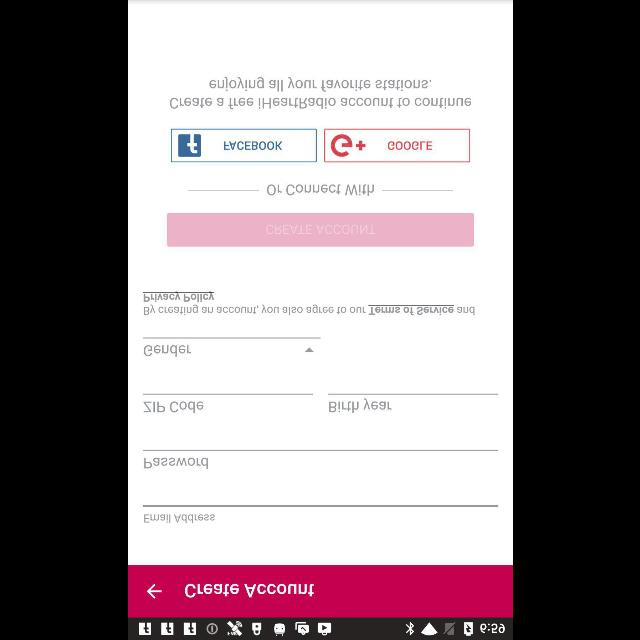icon: (146, 584, 162, 598), (304, 348, 314, 352)
input: (142, 449, 498, 468), (142, 505, 498, 523), (327, 393, 497, 412), (142, 393, 312, 412)
text: (169, 76, 471, 110), (142, 291, 474, 315), (142, 338, 320, 357), (184, 583, 314, 597), (266, 184, 374, 196), (328, 398, 390, 412), (142, 401, 202, 413), (144, 458, 208, 468), (144, 514, 214, 522), (144, 345, 190, 357)
textbutton: (166, 213, 474, 247), (324, 129, 470, 163), (170, 129, 316, 163)
toolbar: (128, 564, 512, 618)
uppertaskbar: (128, 617, 512, 639)
